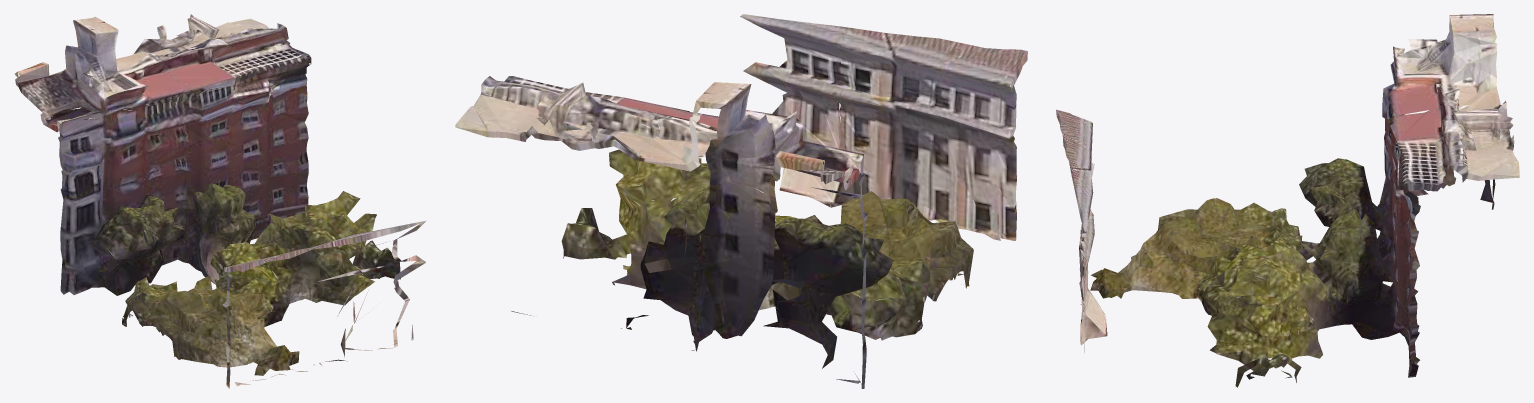
The picture shows the model from 3 angles, left to right: view 1: azimuth 30°, elevation 25°; view 2: azimuth 150°, elevation 25°; view 3: azimuth 270°, elevation 25°; orthographic projection. The views are drawn at different scales.
Visible parts, largest first — view 1: Mesh_0; view 2: Mesh_0; view 3: Mesh_0.
Boxes of the visible parts, box(x1,y1,x2,y2) form: Mesh_0: box(15, 14, 425, 388); Mesh_0: box(455, 14, 1027, 388); Mesh_0: box(1056, 14, 1519, 387).
Bounding box in the file's own units: 32.14 × 25.26 × 41.27.
Materials: 2 (2 with a texture image).
